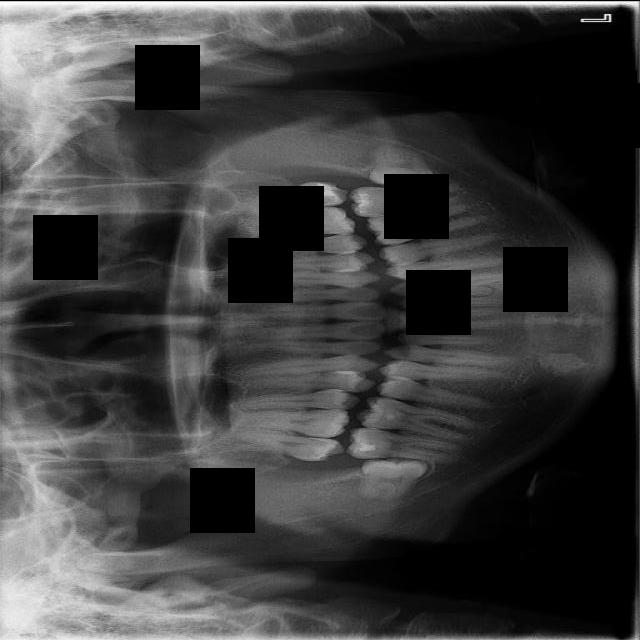52: (346, 421, 403, 467), (360, 393, 421, 433), (285, 177, 350, 209)
73: (528, 64, 540, 70)
BioHorizons Implant: (230, 173, 351, 222)
Biomet 3i Implant: (368, 140, 438, 190)
Blue Sky Bio Implant: (348, 183, 459, 217)
Caries: (232, 428, 345, 463)
Implant: (345, 426, 460, 462)
Keystone Dental Implant: (359, 456, 428, 499)
